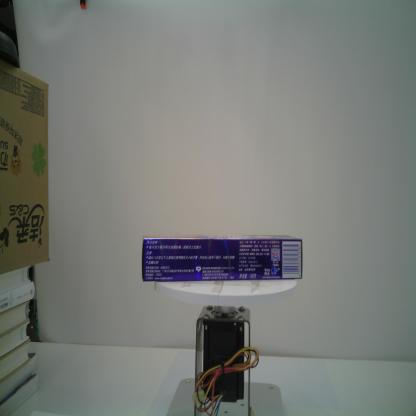Personal Hygiene: (142, 234, 302, 282)
